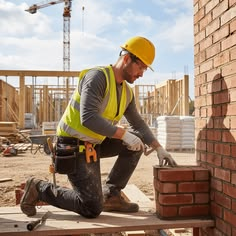crane: (25, 1, 93, 126)
hardhat: (121, 34, 164, 68)
person: (19, 35, 177, 227)
safety_vest: (62, 60, 132, 157)
